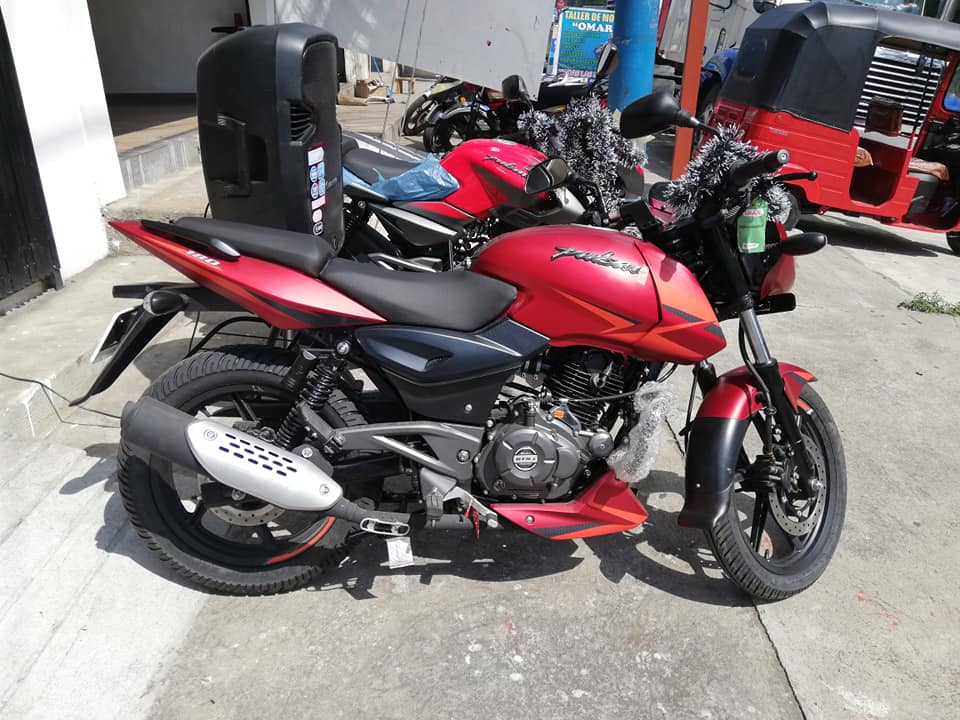moto: (100, 181, 858, 611)
